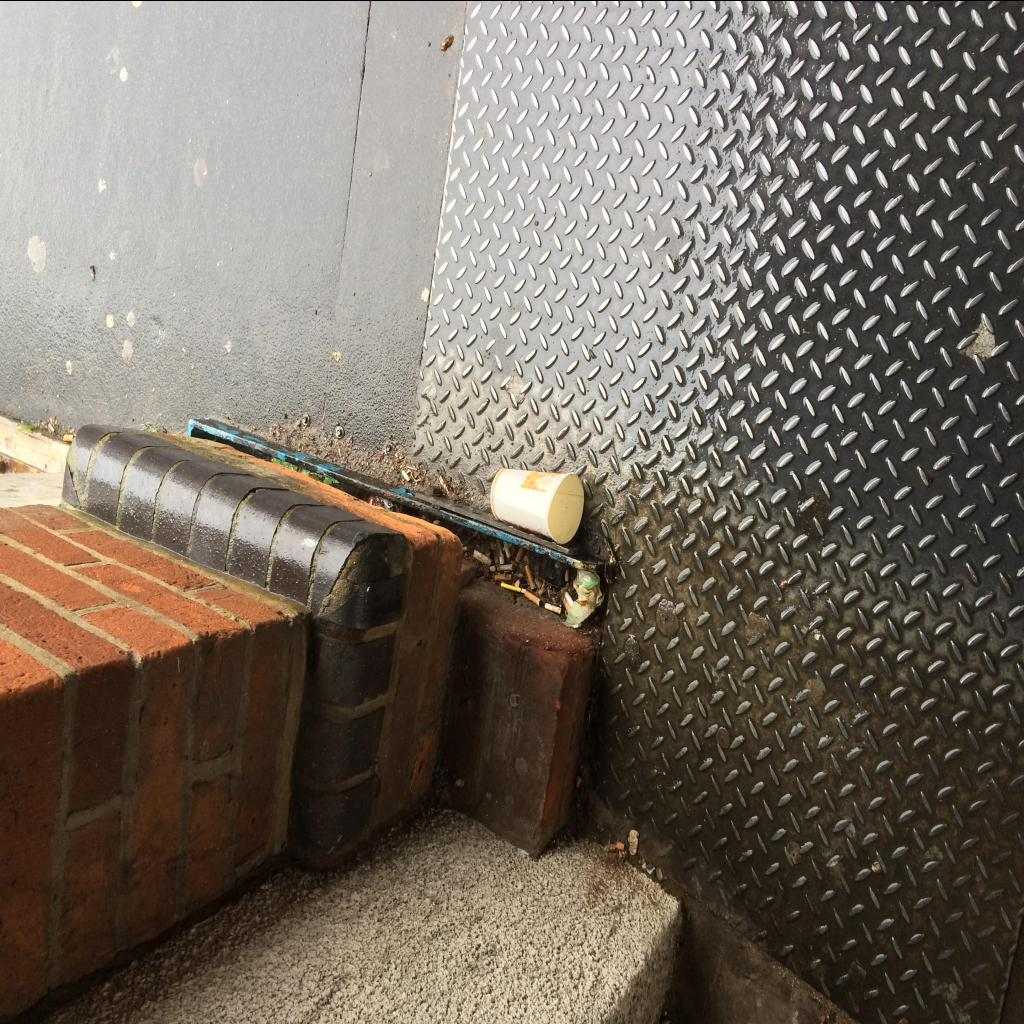Cigarette: (525, 565, 537, 590), (524, 590, 542, 606), (474, 549, 492, 565), (544, 602, 562, 614), (497, 540, 505, 562), (565, 590, 575, 606), (490, 564, 514, 570), (516, 547, 526, 561), (504, 540, 512, 556), (563, 598, 571, 613), (495, 574, 513, 580), (504, 542, 514, 552), (62, 435, 74, 441), (566, 568, 570, 580), (616, 843, 624, 849)
Paper cup: (490, 467, 584, 542)
Unlabeled litter: (560, 568, 604, 626)
